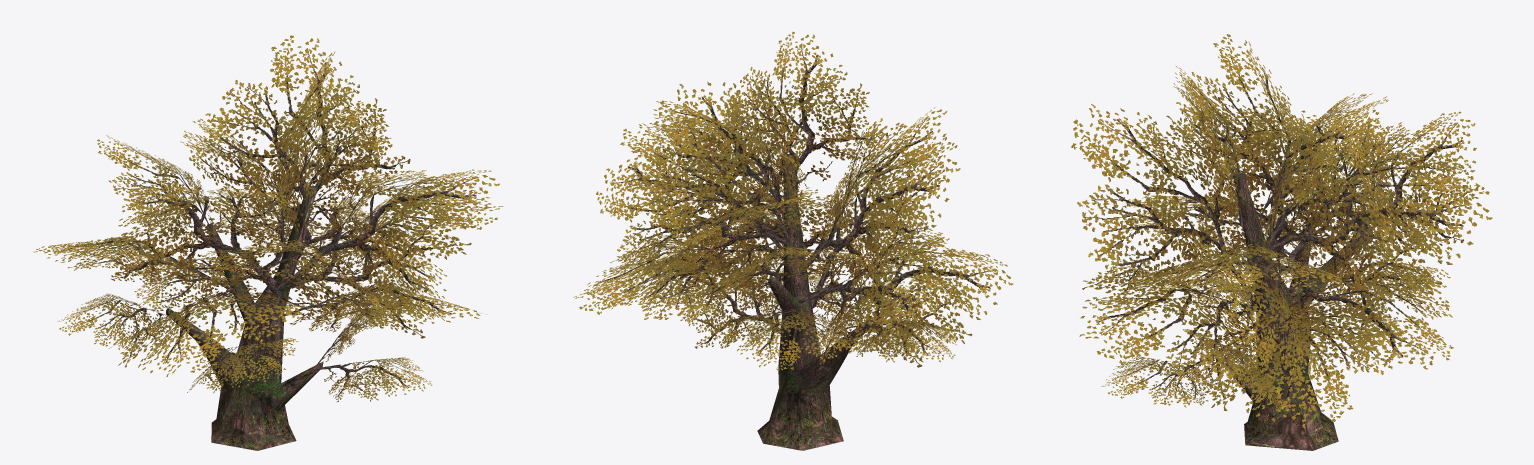
File: tre_bank01.static.glb
3 views of the same model, side by side, from view 1: azimuth 30°, elevation 25°; view 2: azimuth 150°, elevation 25°; view 3: azimuth 270°, elevation 25° (orthographic). The views are drawn at different scales.
Parts seen in each view (by area): view 1: tre_bank_leaf05, tre_bank_pilla05; view 2: tre_bank_leaf05, tre_bank_pilla05; view 3: tre_bank_leaf05, tre_bank_pilla05.
Boxes of the visible parts, x1,y1,x2,y2 form: tre_bank_leaf05: (33, 35, 503, 401); tre_bank_pilla05: (166, 186, 323, 450); tre_bank_leaf05: (573, 31, 1013, 370); tre_bank_pilla05: (757, 154, 872, 450); tre_bank_leaf05: (1071, 34, 1492, 428); tre_bank_pilla05: (1233, 172, 1372, 450).
Size of the model in its own units: 26.42 by 20.93 by 21.34.
Materials: 2 (2 with a texture image).
